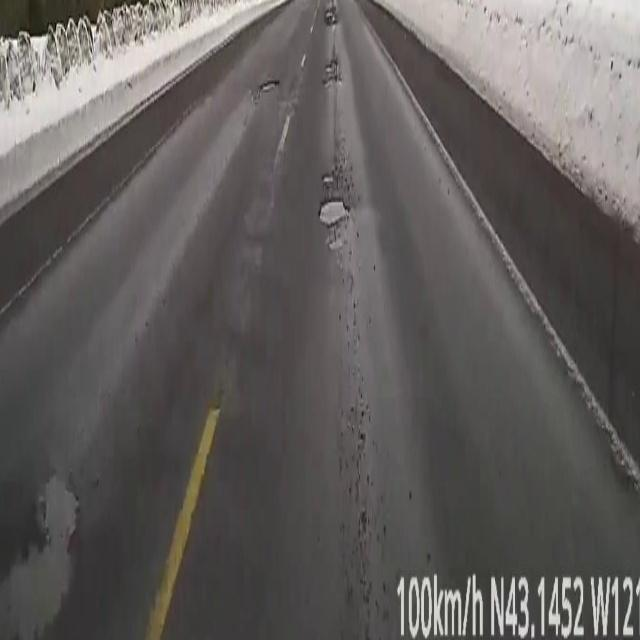pothole: (0, 469, 85, 640), (320, 164, 354, 248), (320, 57, 343, 89), (259, 76, 282, 94)
